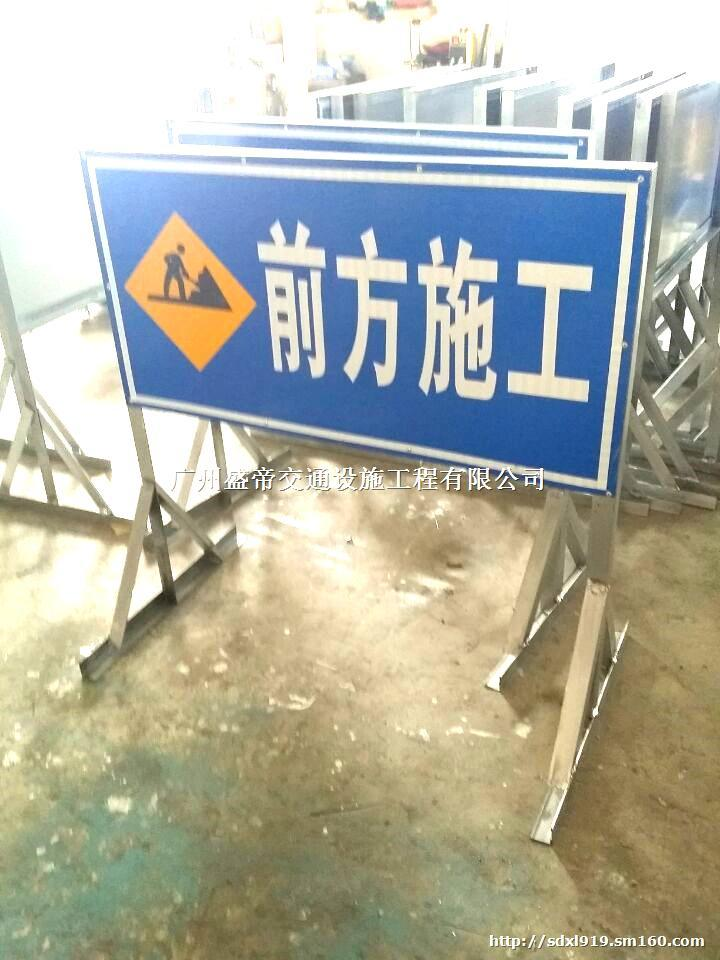sign: (81, 153, 624, 489)
